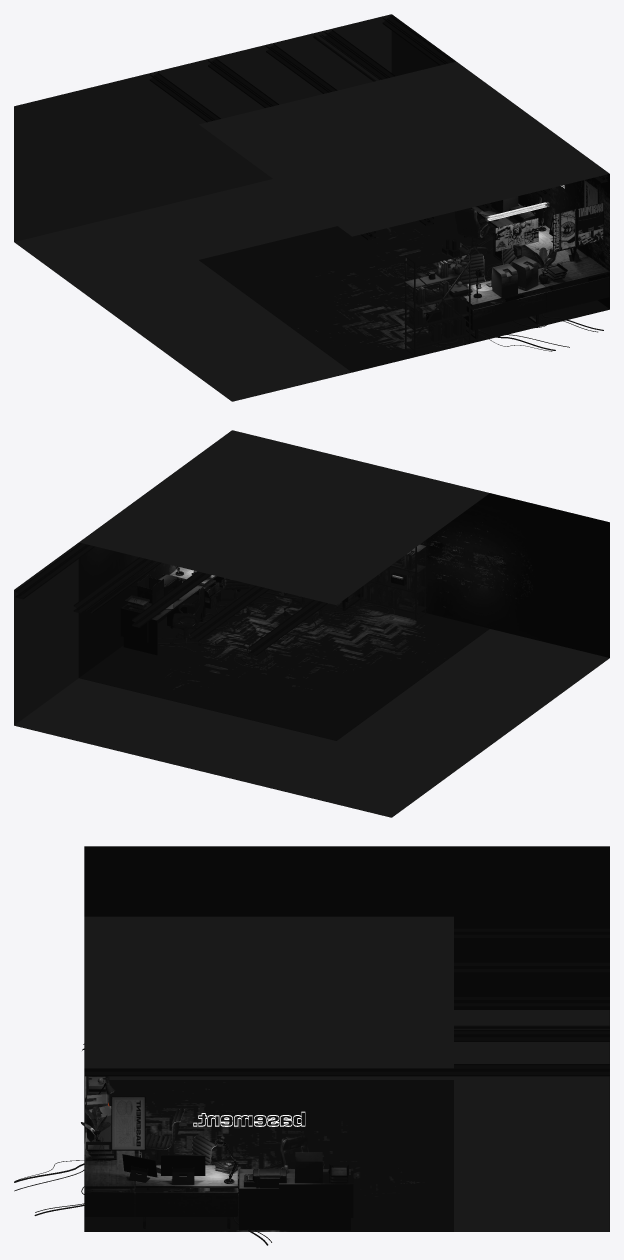
Rendered from office2.glb.
3 views of the same model, one above another, from view 1: azimuth 30°, elevation 25°; view 2: azimuth 150°, elevation 25°; view 3: azimuth 270°, elevation 25° (orthographic). The views are drawn at different scales.
Parts seen in each view (by area): view 1: ARQ_3_, ARQ_3_Roof, ARQ_3_floor, beams, 21_picture, ARQ_02, 01_Desk_02_01, 04_Shelf, 03_cornerback, Book_92, 08_PC_Mac_, BezierCurve (+5 smaller); view 2: ARQ_3_, ARQ_3_Roof, ARQ_3_floor, ARQ_02, beams, 00_DESK_01, Book_92, BezierCurve, 04_Shelf, 07_chair_02_01, 02_Desk_02_02, 24_ML_BOX.001; view 3: ARQ_3_Roof, ARQ_02, ARQ_3_floor, ARQ_3_, beams, 00_DESK_01, 02_Desk_02_02, 03_cornerback, 21_picture, 09_PC, 24_ML_BOX.001, BezierCurve (+6 smaller).
Part boxes in pixels (bbox=[...]): ARQ_3_: bbox=[14, 14, 455, 401]; ARQ_3_Roof: bbox=[199, 61, 609, 236]; ARQ_3_floor: bbox=[199, 211, 609, 372]; beams: bbox=[149, 15, 608, 239]; 21_picture: bbox=[495, 180, 603, 252]; ARQ_02: bbox=[199, 174, 609, 399]; 01_Desk_02_01: bbox=[452, 280, 546, 339]; 04_Shelf: bbox=[404, 242, 471, 356]; 03_cornerback: bbox=[538, 256, 609, 312]; Book_92: bbox=[409, 260, 466, 345]; 08_PC_Mac_: bbox=[486, 256, 538, 297]; BezierCurve: bbox=[386, 239, 603, 351]; ARQ_3_: bbox=[14, 493, 609, 817]; ARQ_3_Roof: bbox=[79, 430, 489, 605]; ARQ_3_floor: bbox=[79, 581, 489, 740]; ARQ_02: bbox=[16, 493, 609, 815]; beams: bbox=[15, 543, 327, 655]; 00_DESK_01: bbox=[120, 581, 203, 655]; Book_92: bbox=[363, 551, 420, 611]; BezierCurve: bbox=[158, 589, 394, 667]; 04_Shelf: bbox=[359, 540, 426, 620]; 07_chair_02_01: bbox=[170, 588, 204, 649]; 02_Desk_02_02: bbox=[169, 567, 240, 617]; 24_ML_BOX.001: bbox=[137, 575, 163, 604]; ARQ_3_Roof: bbox=[84, 916, 453, 1068]; ARQ_02: bbox=[84, 846, 609, 1231]; ARQ_3_floor: bbox=[84, 1080, 453, 1231]; ARQ_3_: bbox=[84, 1010, 609, 1231]; beams: bbox=[84, 927, 609, 1076]; 00_DESK_01: bbox=[239, 1168, 353, 1230]; 02_Desk_02_02: bbox=[135, 1165, 237, 1228]; 03_cornerback: bbox=[84, 1150, 134, 1216]; 21_picture: bbox=[84, 1076, 145, 1150]; 09_PC: bbox=[122, 1154, 205, 1184]; 24_ML_BOX.001: bbox=[295, 1152, 322, 1183]; BezierCurve: bbox=[14, 1152, 324, 1245].
Bounding box in the file's own units: 20.7 × 6.69 × 22.09.
Materials: 43 (29 with a texture image).
